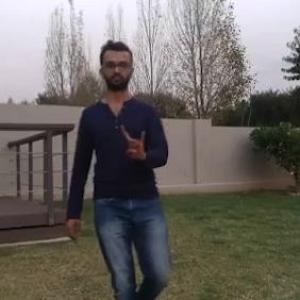takeoff-hand: (120, 118, 150, 163)
